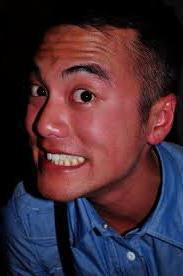Drunk: (30, 34, 135, 200)
